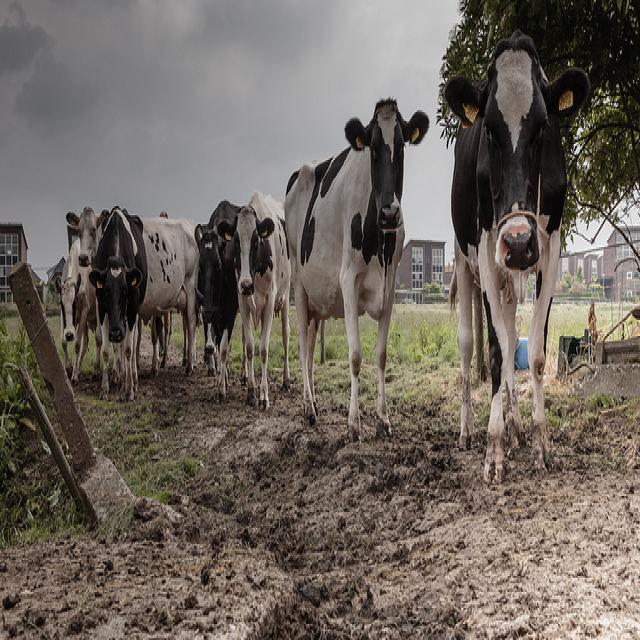cow: (442, 21, 588, 480), (283, 95, 427, 438), (87, 201, 198, 400), (216, 188, 289, 402), (194, 197, 244, 391), (55, 237, 100, 381), (65, 203, 107, 267)
